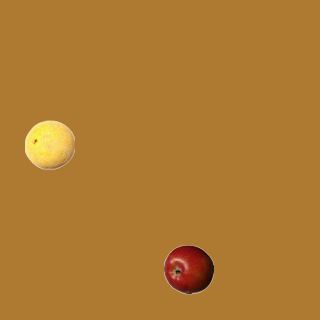Apple Braeburn: (163, 244, 213, 294)
Cantaloupe 1: (24, 119, 74, 169)
